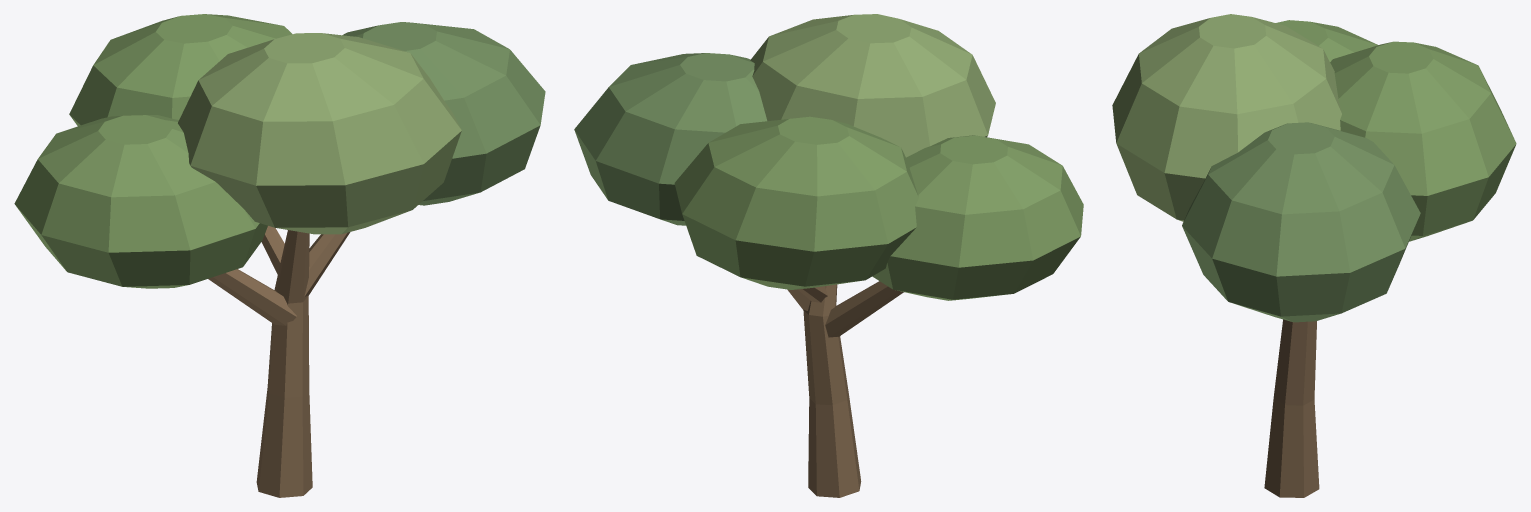
File: plaza-shade.glb
3 renders of one model, left to right at view 1: azimuth 30°, elevation 25°; view 2: azimuth 150°, elevation 25°; view 3: azimuth 270°, elevation 25°, orthographic. The views are drawn at different scales.
Visible parts, largest first — view 1: plaza-shade; view 2: plaza-shade; view 3: plaza-shade.
Boxes of the visible parts, x1,y1,x2,y2 form: plaza-shade: [14, 14, 545, 497]; plaza-shade: [574, 14, 1083, 497]; plaza-shade: [1112, 14, 1516, 497].
Bounding box in the file's own units: 7.81 × 6.88 × 5.58.
